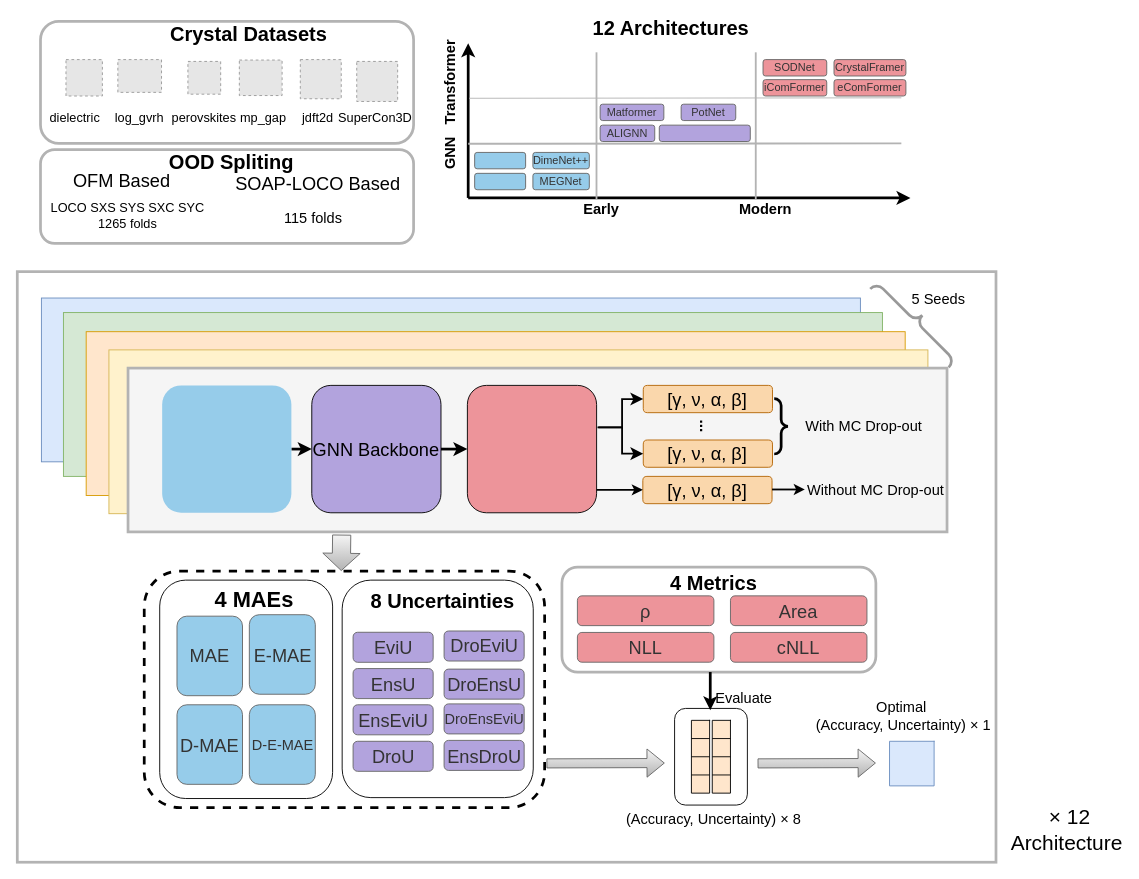
This 1139x879 diagram has some shape labels left out. Grey dashed boxes stand in for pictures. The box of each missing label's shape, as (x1, y1, x2, y2) in pixels:
CGCNN: (474, 172, 526, 190)
Crystal Graph: (162, 385, 291, 512)
DeeperGATGNN: (658, 124, 750, 142)
Outputlayer: (466, 384, 597, 513)
SchNet: (474, 152, 526, 169)
